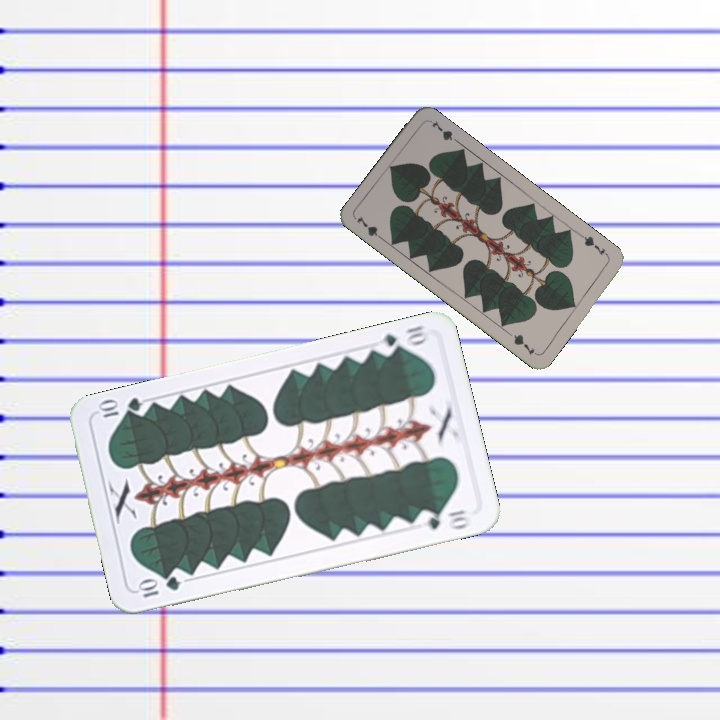G10: (372, 321, 432, 358), (134, 572, 183, 600)
G7: (352, 211, 387, 244), (577, 230, 611, 260)
